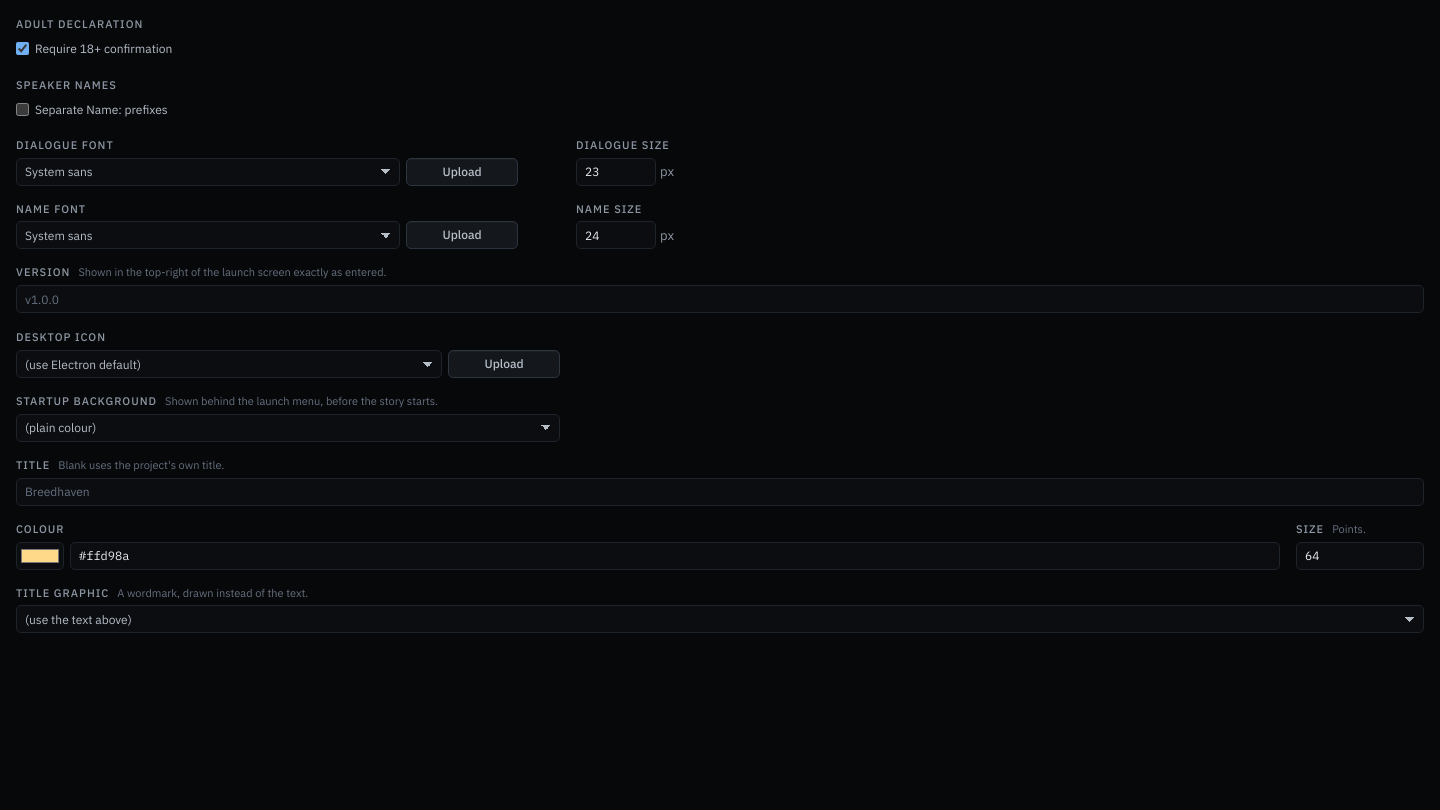
Test: GameSettingsPanel › offers still backgrounds, and nothing else
Click the dropdown named "Startup background" at (61, 427), box x1=16 y1=414 x2=560 y2=442
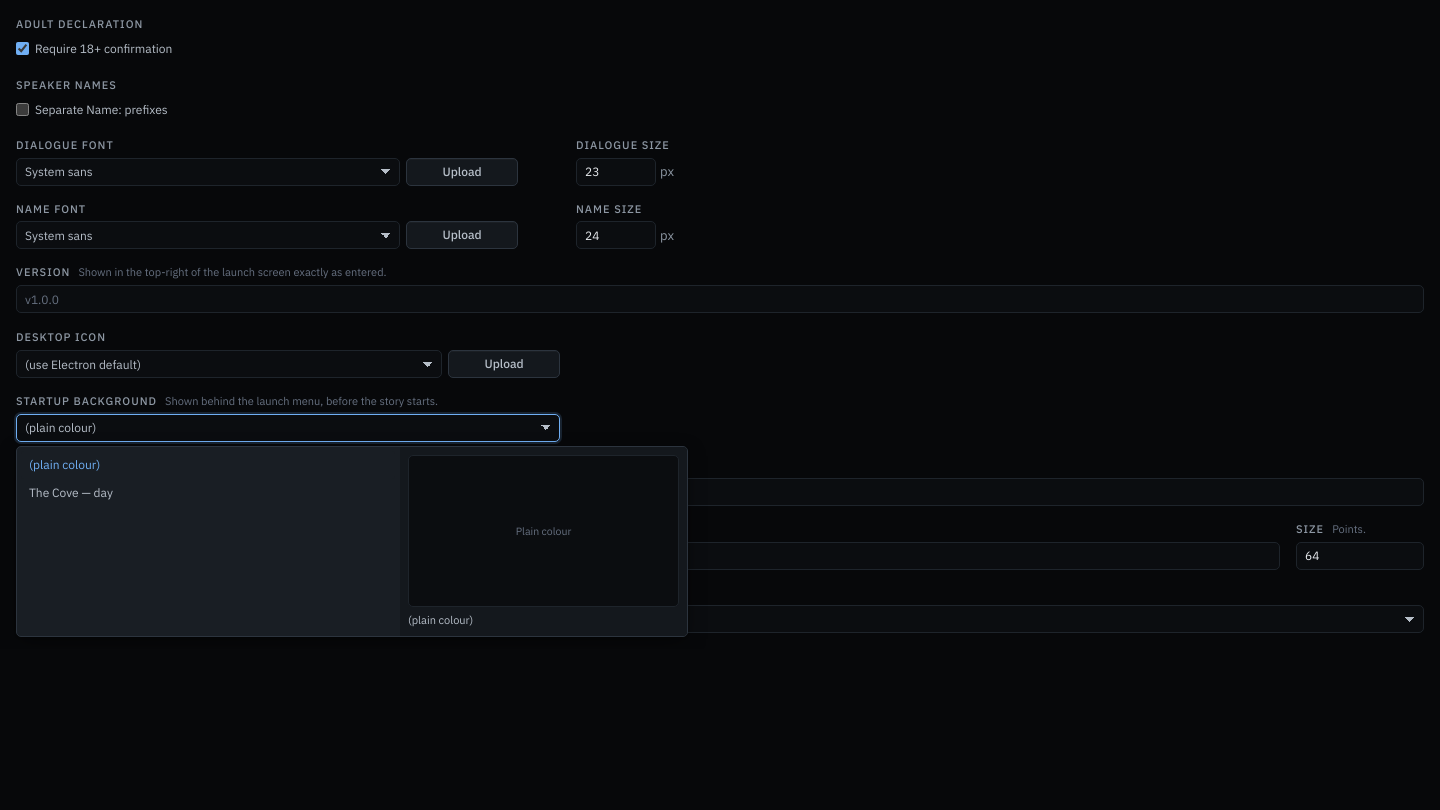
Expected: the options read "(plain colour)", "The Cove — day", in this order, x1=21 y1=451 x2=395 y2=479; x1=21 y1=479 x2=395 y2=507
